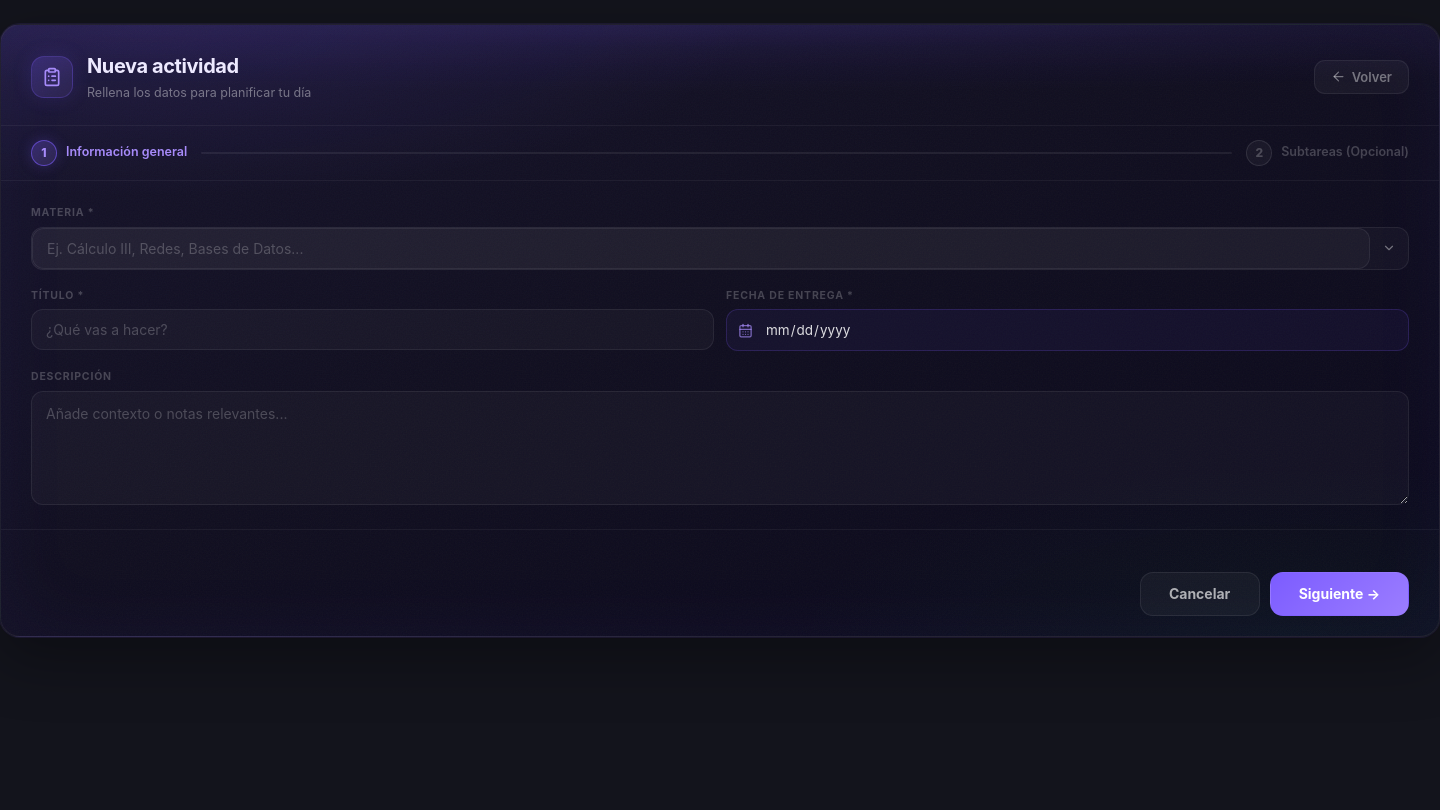
Scenario: CreateActivityView — combobox de materia › abre el dropdown y selecciona una materia conocida
Type "Mat" into the field with test id "create-activity-subject-input" at (701, 248), box left=32, top=228, right=1370, bottom=268
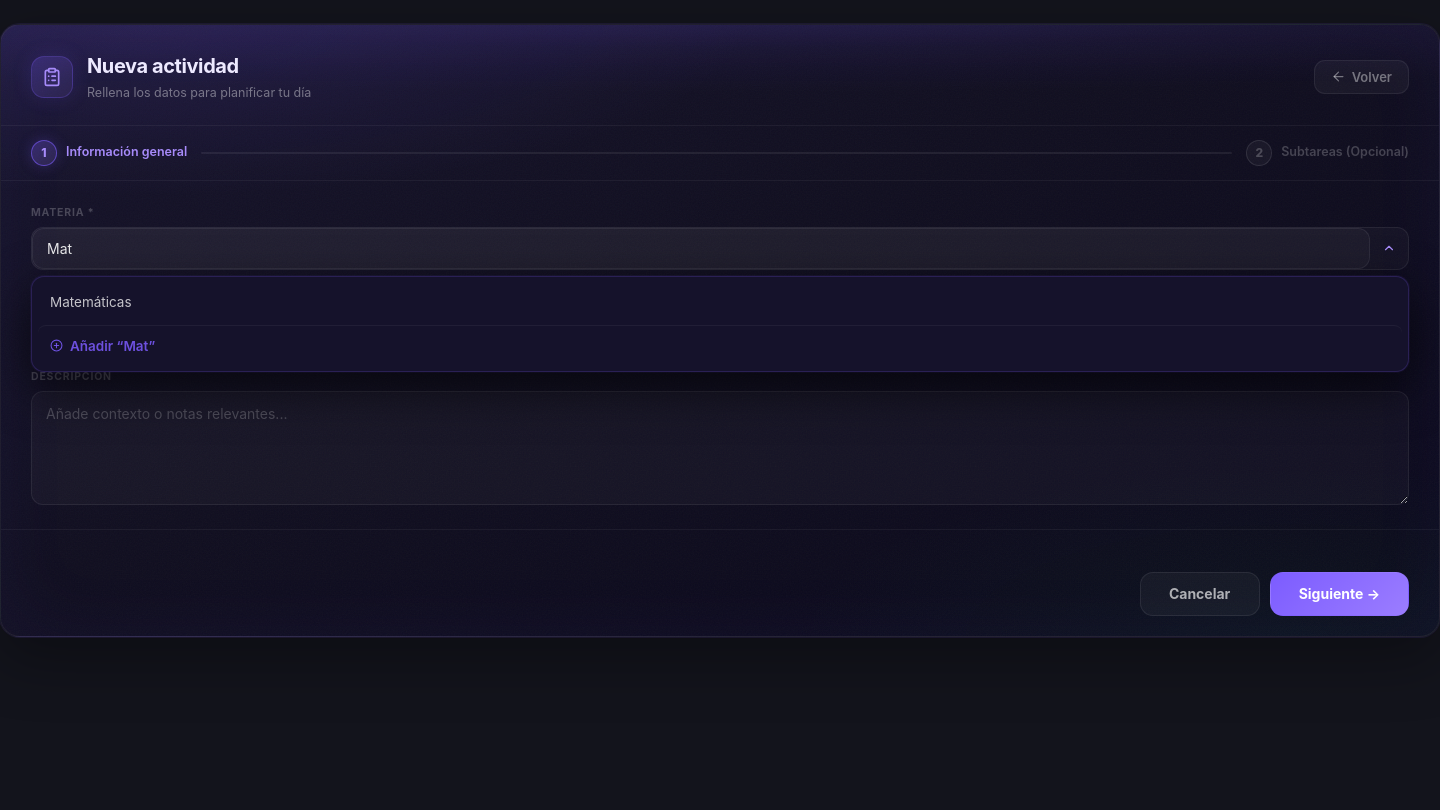
Press the mouse on the option with test id "create-activity-subject-option-0" at (91, 302), box left=50, top=294, right=132, bottom=310
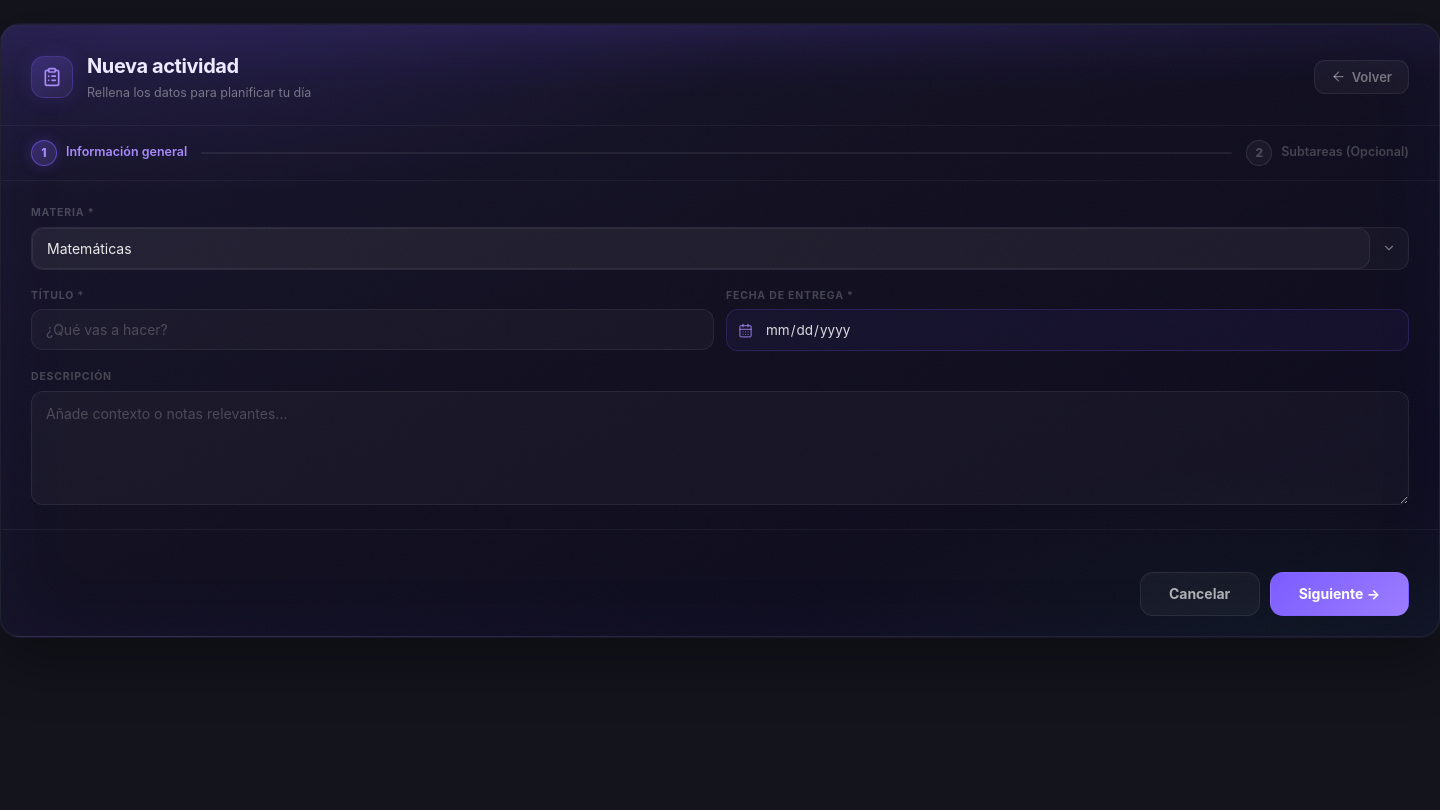
expect the field with test id "create-activity-subject-input" holds "Matemáticas": met, box left=32, top=228, right=1370, bottom=268
